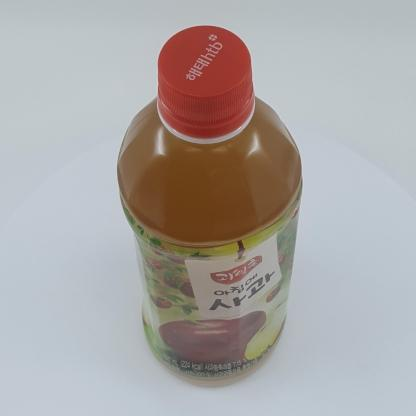--------500ML: (117, 25, 303, 386)
